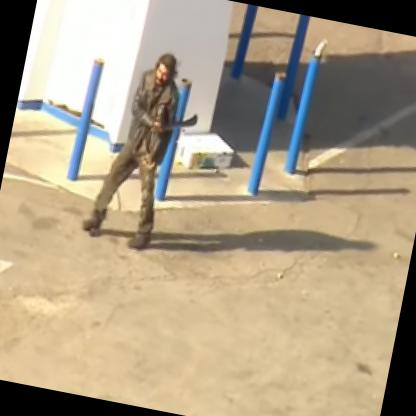Human Body: (71, 38, 217, 263)
